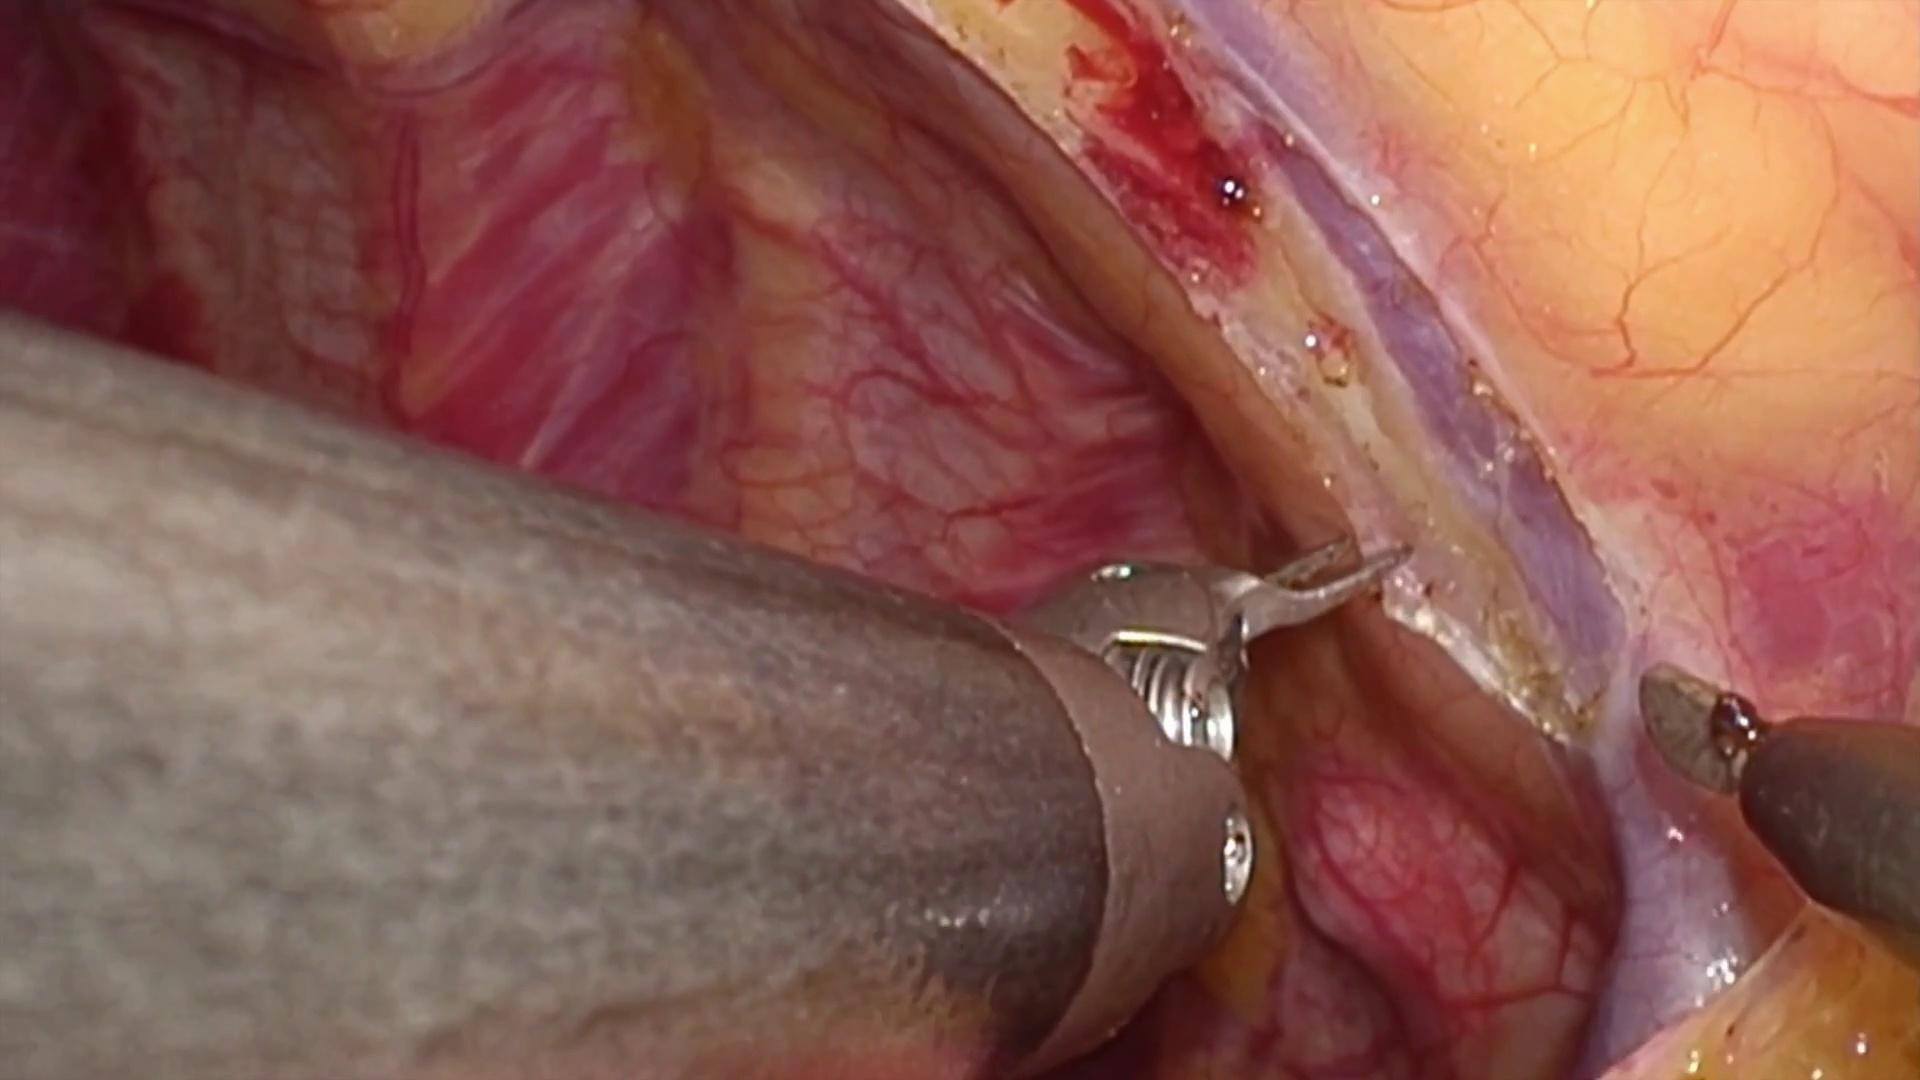Cautery_Spatula: (1630, 649, 1920, 967)
Debakey: (1204, 529, 1423, 680)
